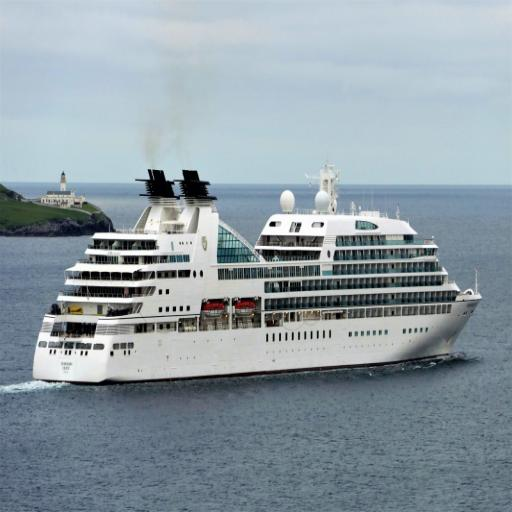cruises: (29, 159, 486, 394)
